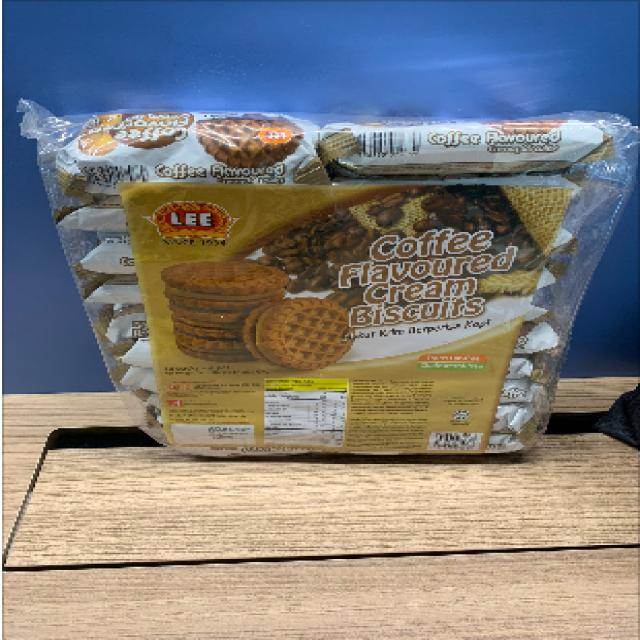object_name: (56, 110, 569, 445)
